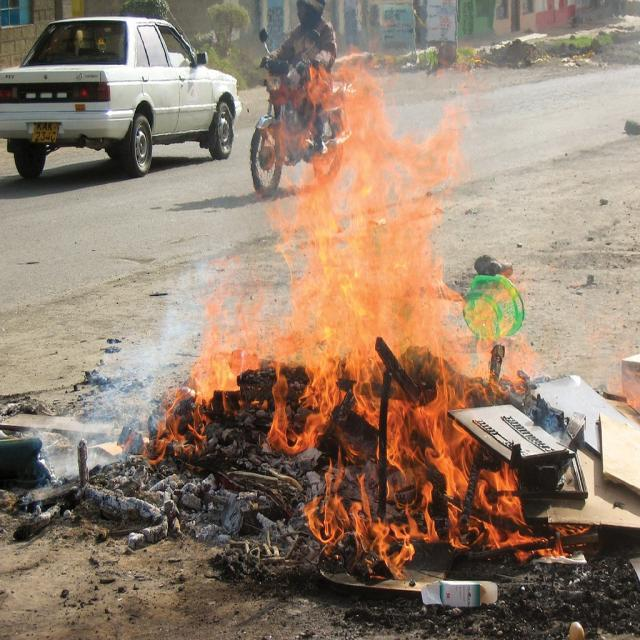Fire: (274, 75, 458, 443), (310, 460, 556, 571), (197, 278, 258, 401)
